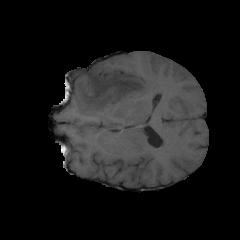glioma: (72, 64, 159, 124)
